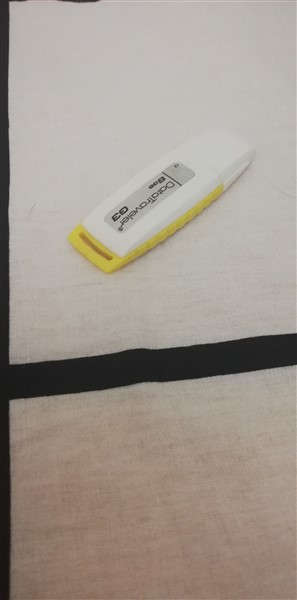flash disk: (65, 128, 261, 277)
